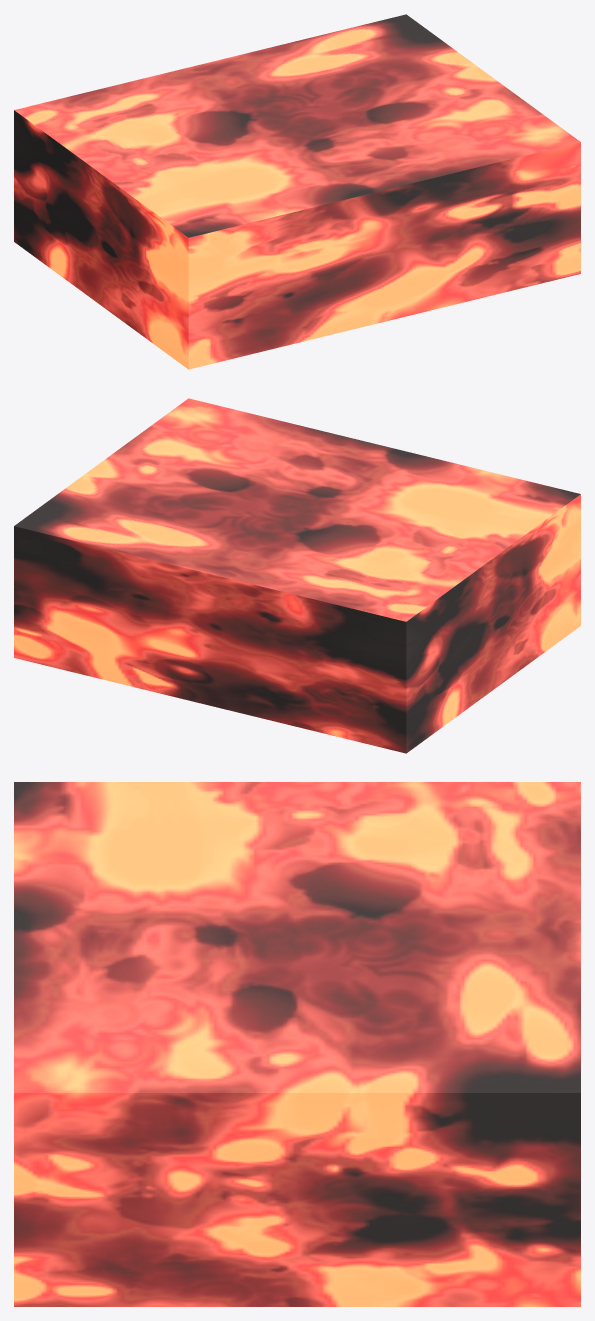
Rendered from lavalbox.fbx.
The picture shows the model from 3 angles, top to bottom: view 1: azimuth 30°, elevation 25°; view 2: azimuth 150°, elevation 25°; view 3: azimuth 270°, elevation 25°; orthographic projection. The views are drawn at different scales.
Parts seen in each view (by area): view 1: Cube; view 2: Cube; view 3: Cube.
Boxes of the visible parts, x1,y1,x2,y2 form: Cube: (14,14,580,369); Cube: (14,398,580,753); Cube: (14,782,580,1306).
Bounding box in the file's own units: 623 × 200 × 480.
